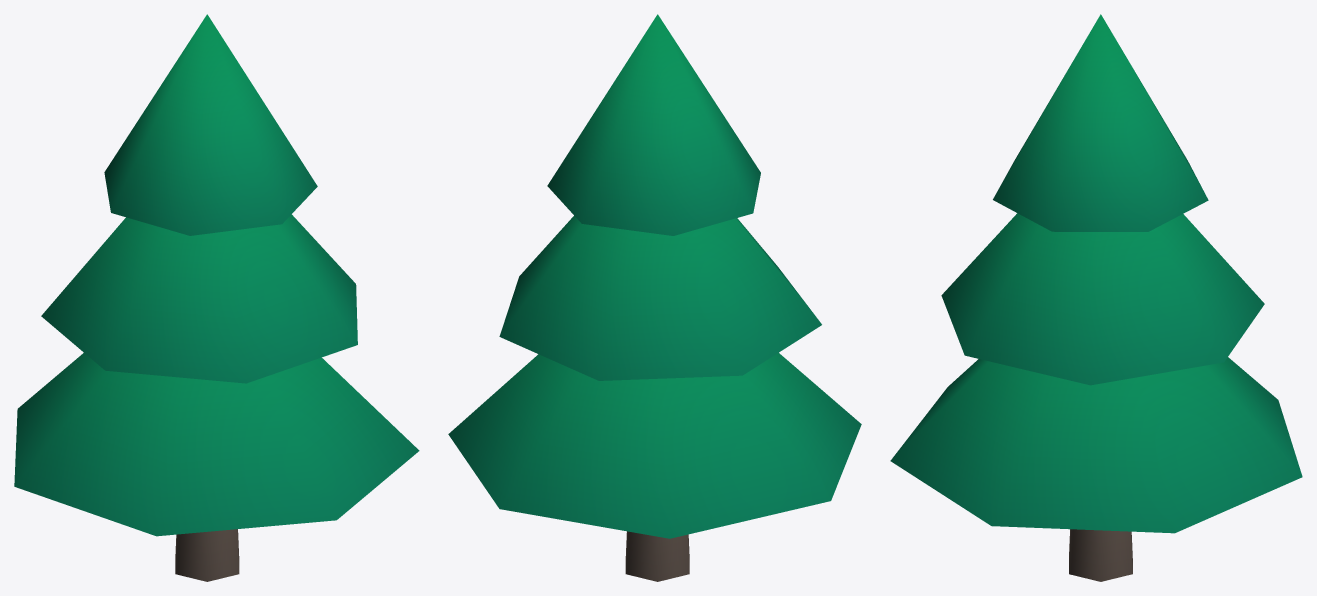
Rendered from pine_tree.glb.
3 views of the same model, side by side, from view 1: azimuth 30°, elevation 25°; view 2: azimuth 150°, elevation 25°; view 3: azimuth 270°, elevation 25° (orthographic).
Parts seen in each view (by area): view 1: pine_tree; view 2: pine_tree; view 3: pine_tree.
Part boxes in pixels (x1,y1,x2,y2): pine_tree: (14,14,419,581); pine_tree: (448,14,861,581); pine_tree: (890,14,1302,581).
Size of the model in its own units: 2.22 by 3.3 by 2.23.
1 material, 1 textured.
